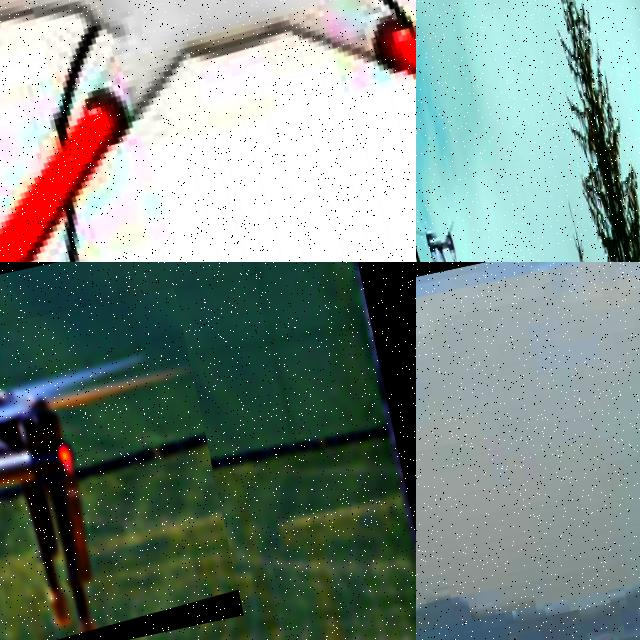drone: (0, 0, 416, 262), (0, 287, 243, 640), (416, 210, 477, 262)
